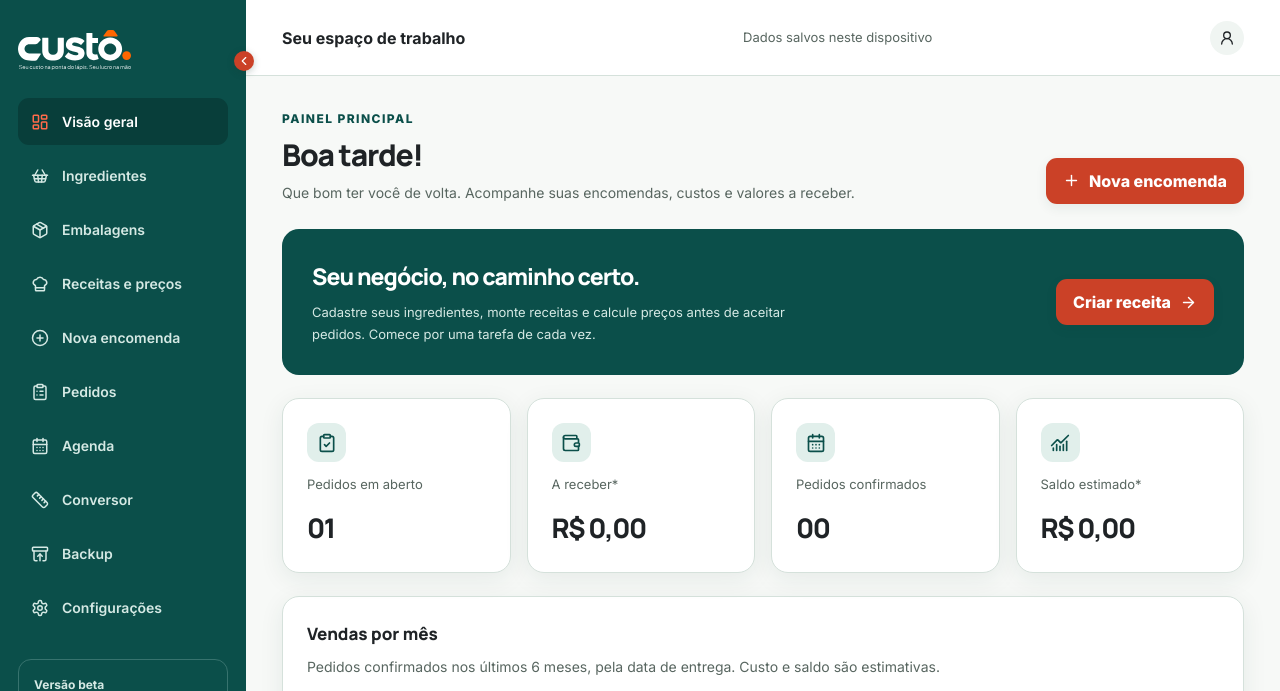
Etapa 10 — navegação e pedido › separa Nova encomenda de Pedidos e abre detalhes com URL recarregável
Click the 2nd button "Nova encomenda": coordinates (123, 338) [18, 314, 228, 361]
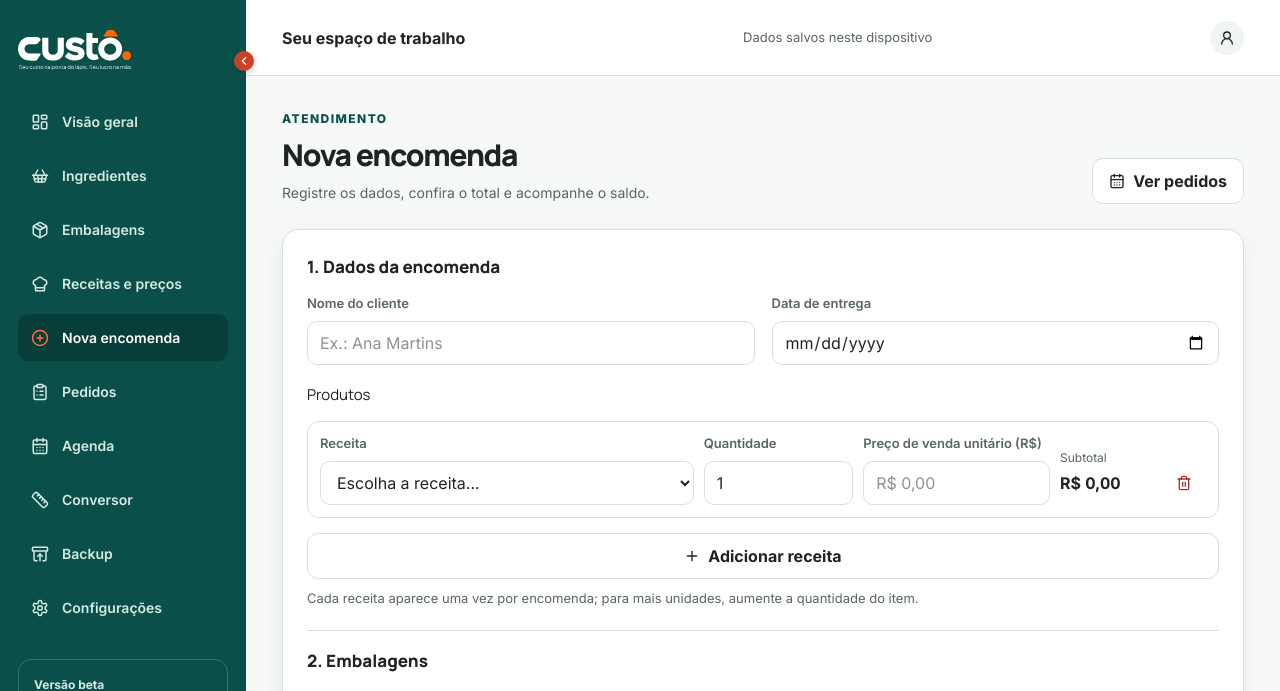
Check: the heading "Nova encomenda" is shown, box [282, 134, 517, 175]
Click the button "Pedidos": coordinates (123, 392) [18, 368, 228, 415]
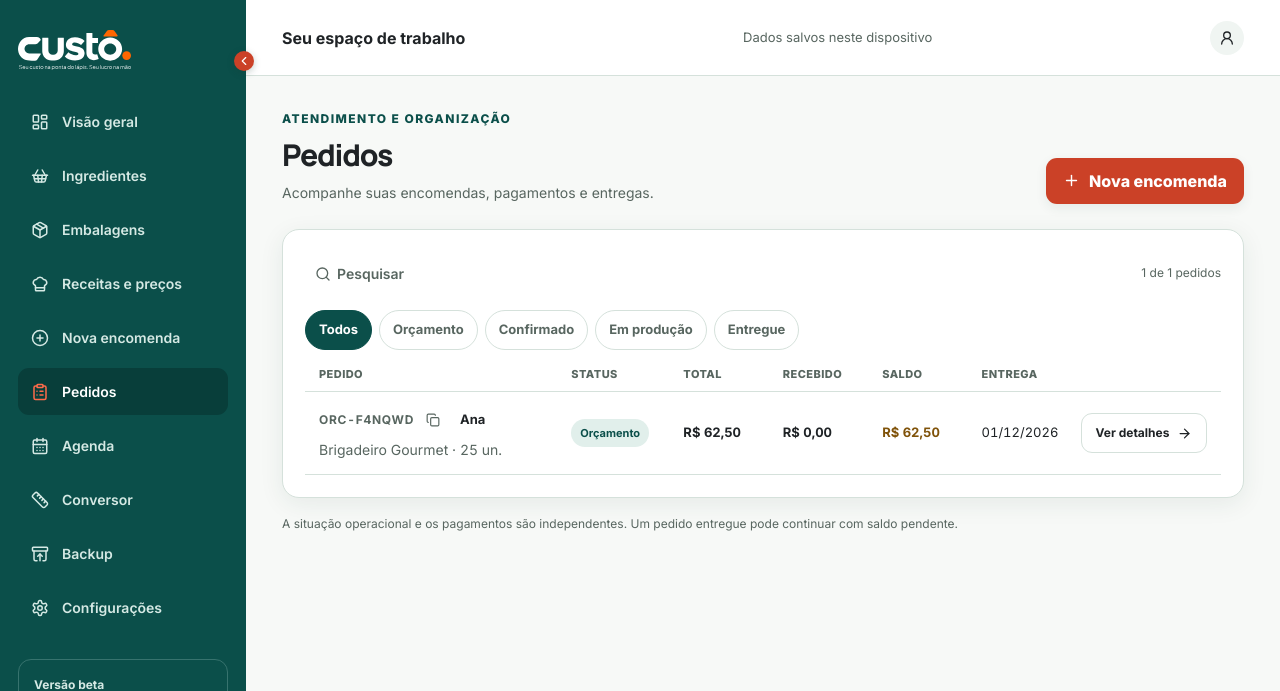
Check: the text "Acompanhe suas encomendas, pagamentos e entregas." is shown, box [282, 182, 654, 204]
Check: the label labelled "Nome do cliente" is gone
Click the button "Ver detalhes": coordinates (1144, 433) [1081, 413, 1207, 453]
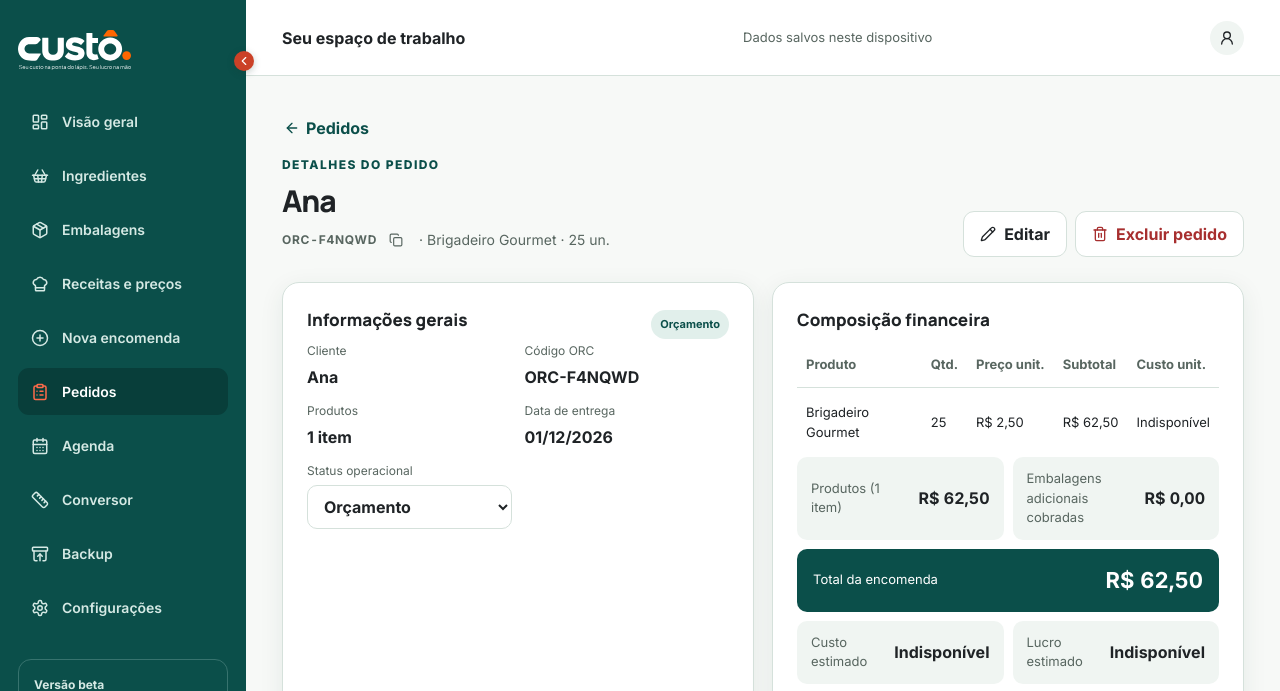
Check: the heading "Ana" is shown, box [282, 180, 336, 221]
Check: the heading "Composição financeira" is shown, box [797, 308, 990, 331]
